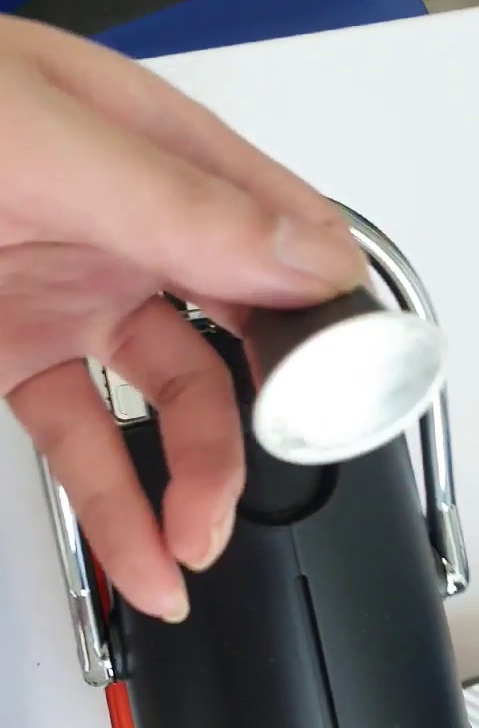capsule_4: (237, 260, 452, 466)
